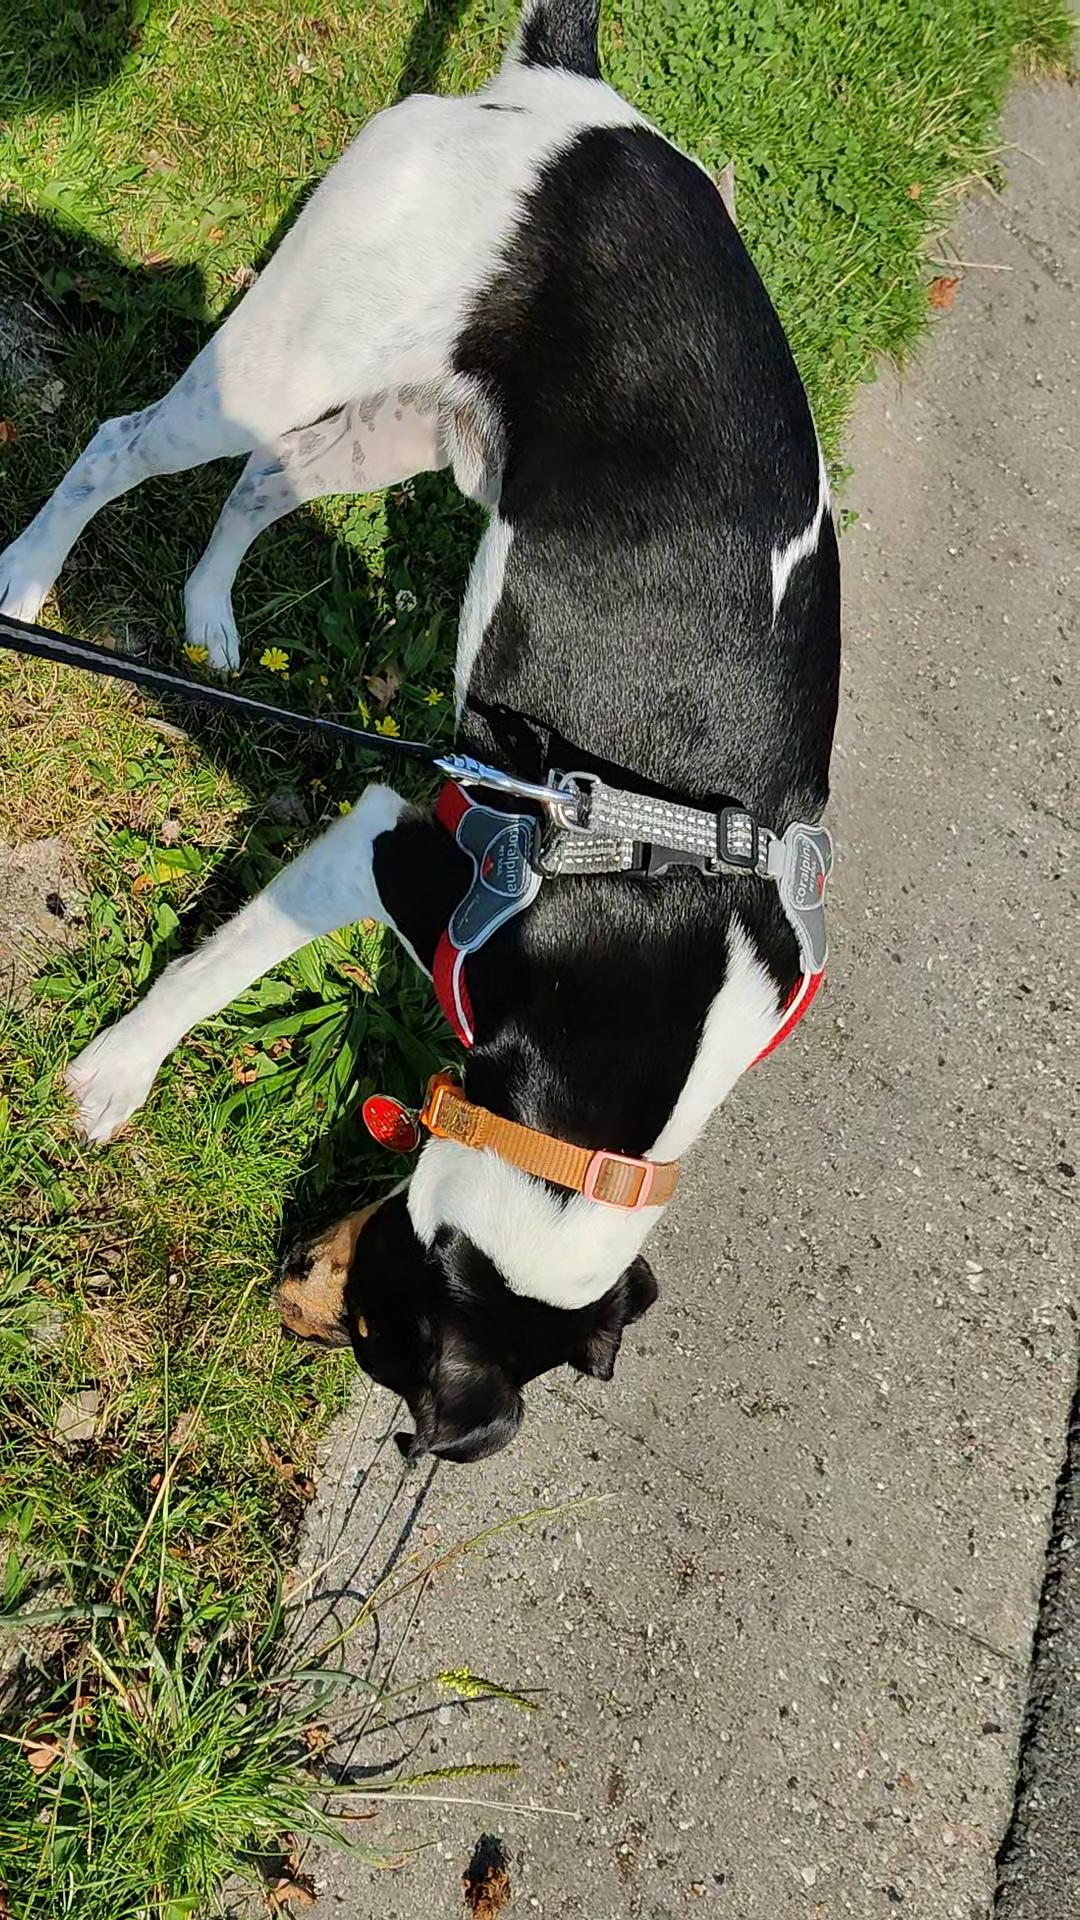Dog: (0, 0, 851, 1472)
